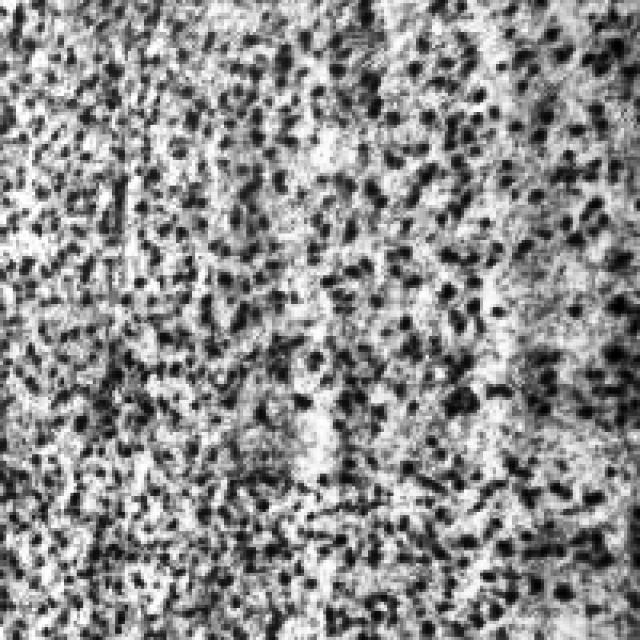Rolled_in_Scale: (0, 0, 486, 630), (428, 19, 630, 637)
